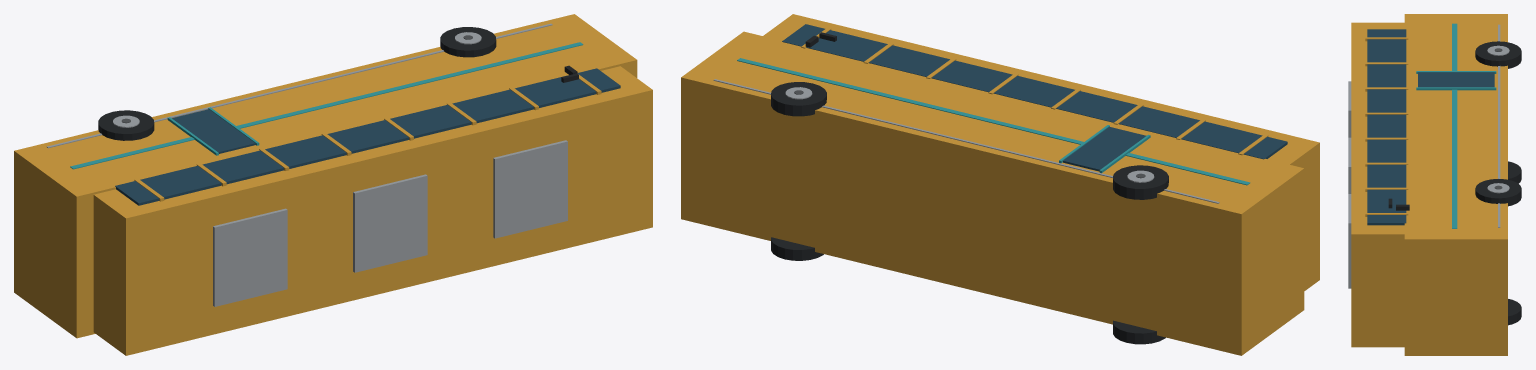
Rendered from RM_Bus_36.glb.
3 renders of one model, left to right at view 1: azimuth 30°, elevation 25°; view 2: azimuth 150°, elevation 25°; view 3: azimuth 270°, elevation 25°, orthographic. The views are drawn at different scales.
Parts seen in each view (by area): view 1: part_001, part_000, part_002, part_039, part_037, part_038, part_013, part_040, part_030, part_024, part_014; view 2: part_000, part_002, part_001, part_013, part_040, part_024, part_030, part_014, part_021, part_027; view 3: part_000, part_001, part_002, part_040, part_013, part_024, part_030, part_014, part_039, part_042, part_027, part_021 (+5 smaller).
Part boxes in pixels (x1,y1,x2,y2): part_001: (93, 66, 652, 355); part_000: (14, 14, 637, 338); part_002: (115, 68, 620, 205); part_039: (493, 140, 567, 238); part_037: (213, 208, 287, 306); part_038: (353, 174, 427, 272); part_013: (70, 42, 583, 169); part_040: (172, 109, 255, 153); part_030: (440, 27, 496, 57); part_024: (98, 110, 154, 140); part_014: (47, 23, 552, 148); part_000: (681, 31, 1304, 355); part_002: (782, 24, 1287, 159); part_001: (763, 14, 1319, 290); part_013: (737, 58, 1250, 185); part_040: (1063, 127, 1146, 171); part_024: (1113, 165, 1168, 199); part_030: (771, 82, 826, 116); part_014: (713, 79, 1219, 203); part_021: (1113, 320, 1165, 344); part_027: (771, 237, 823, 260); part_000: (1404, 14, 1507, 355); part_001: (1351, 22, 1404, 347); part_002: (1367, 29, 1406, 225); part_040: (1418, 72, 1494, 87); part_013: (1452, 23, 1457, 228); part_024: (1475, 41, 1521, 68); part_030: (1475, 179, 1521, 206); part_014: (1498, 24, 1500, 227); part_039: (1348, 194, 1351, 288); part_042: (1416, 87, 1496, 90); part_027: (1508, 299, 1521, 325); part_021: (1508, 161, 1521, 183).
Bounding box in the file's own units: 10.8 × 2.93 × 3.51.
